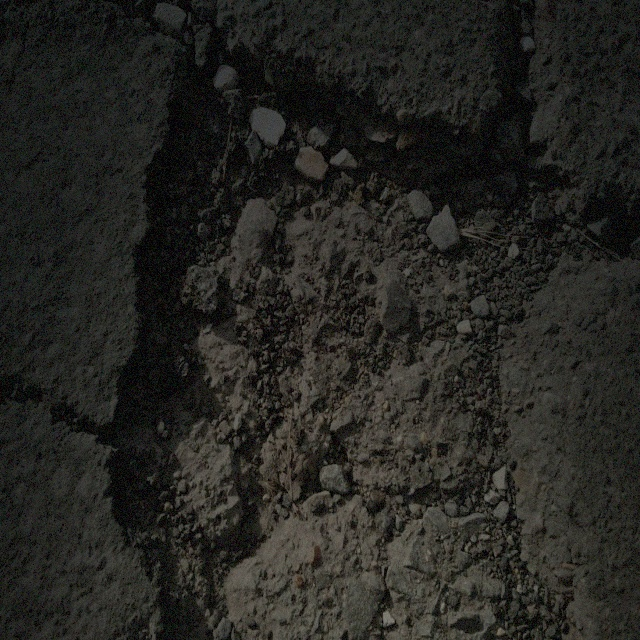pothole: (89, 9, 573, 584)
